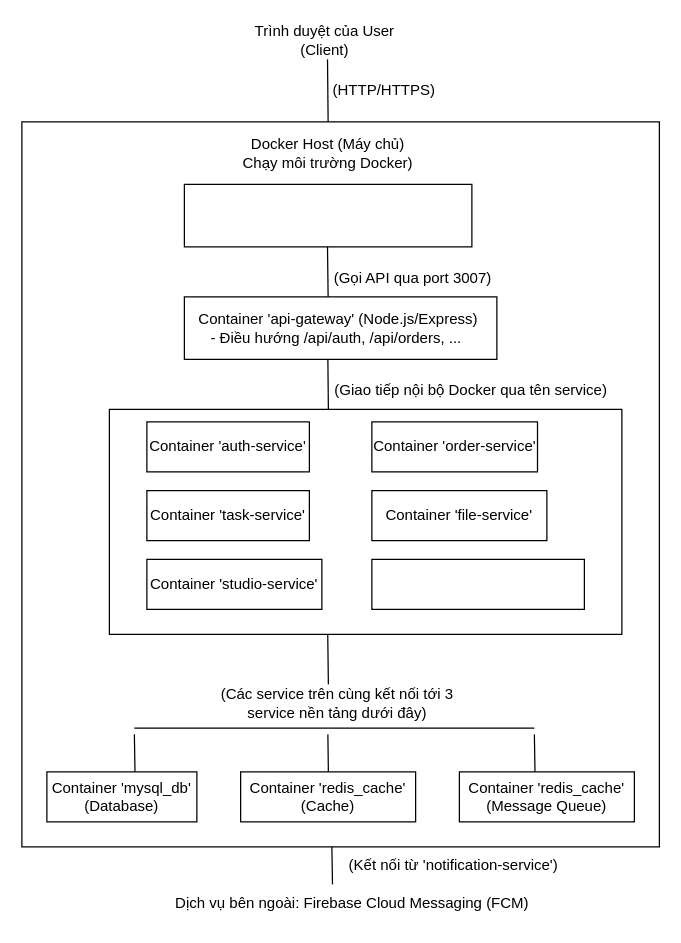
This 681x943 diagram has some shape labels left out. The box of each missing label's shape, as (x1, y1, x2, y2) in pixels:
Container 'notification-service': (371, 558, 584, 609)
Container 'web-app' (Nginx) - Phục vụ React app (HTML, CSS, JS): (183, 183, 472, 247)
